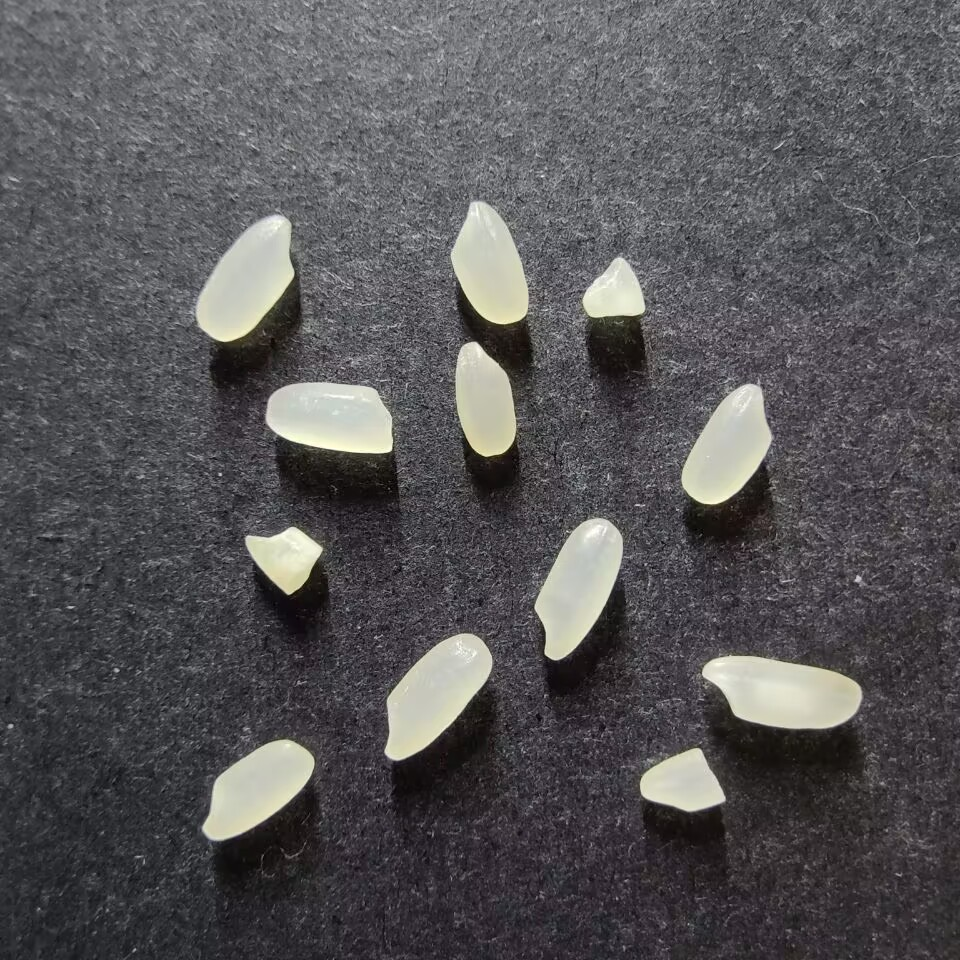broken: (638, 747, 725, 813), (244, 527, 323, 595), (581, 256, 645, 317)
rice: (383, 632, 492, 762), (533, 517, 623, 661), (195, 215, 295, 342), (701, 655, 861, 730), (201, 739, 314, 841), (680, 383, 771, 504), (449, 199, 529, 324), (265, 381, 394, 454), (454, 340, 516, 456)
